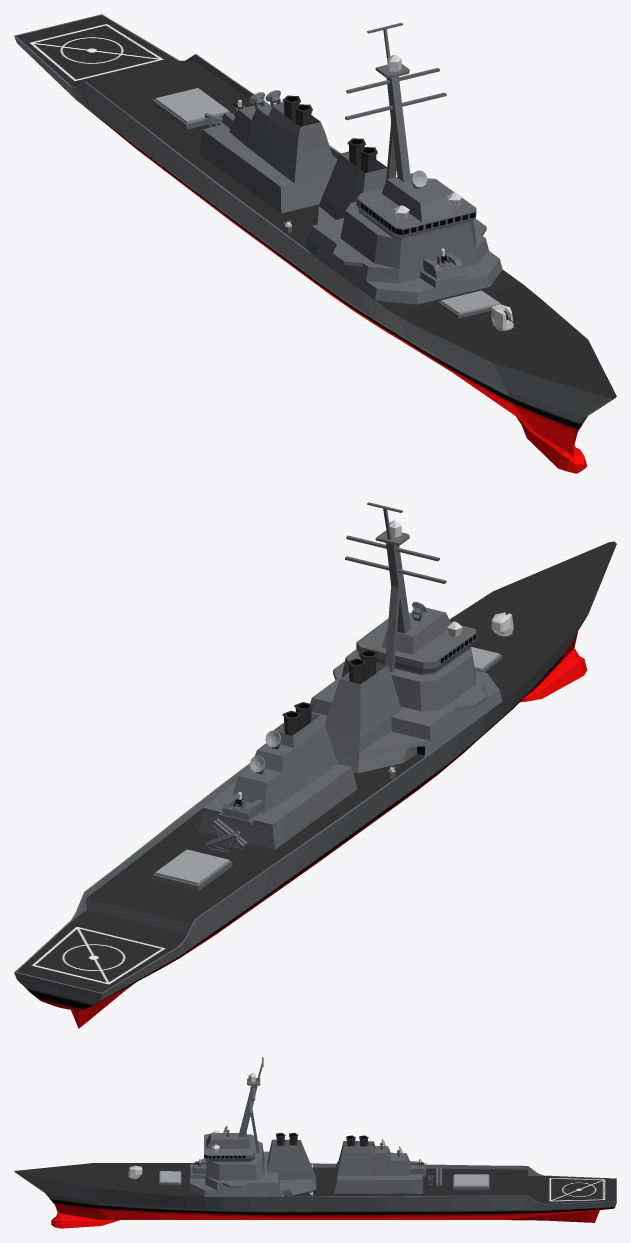
3 views of the same model, one above another, from view 1: azimuth 30°, elevation 25°; view 2: azimuth 150°, elevation 25°; view 3: azimuth 270°, elevation 25° (orthographic). The views are drawn at different scales.
Parts seen in each view (by area): view 1: Cube.024; view 2: Cube.024; view 3: Cube.024.
Part boxes in pixels (left/top/right/bottom): Cube.024: left=14, top=14, right=616, bottom=473; Cube.024: left=14, top=502, right=616, bottom=1028; Cube.024: left=14, top=1057, right=616, bottom=1228.
Size of the model in its own units: 2272 by 4685 by 15364.
